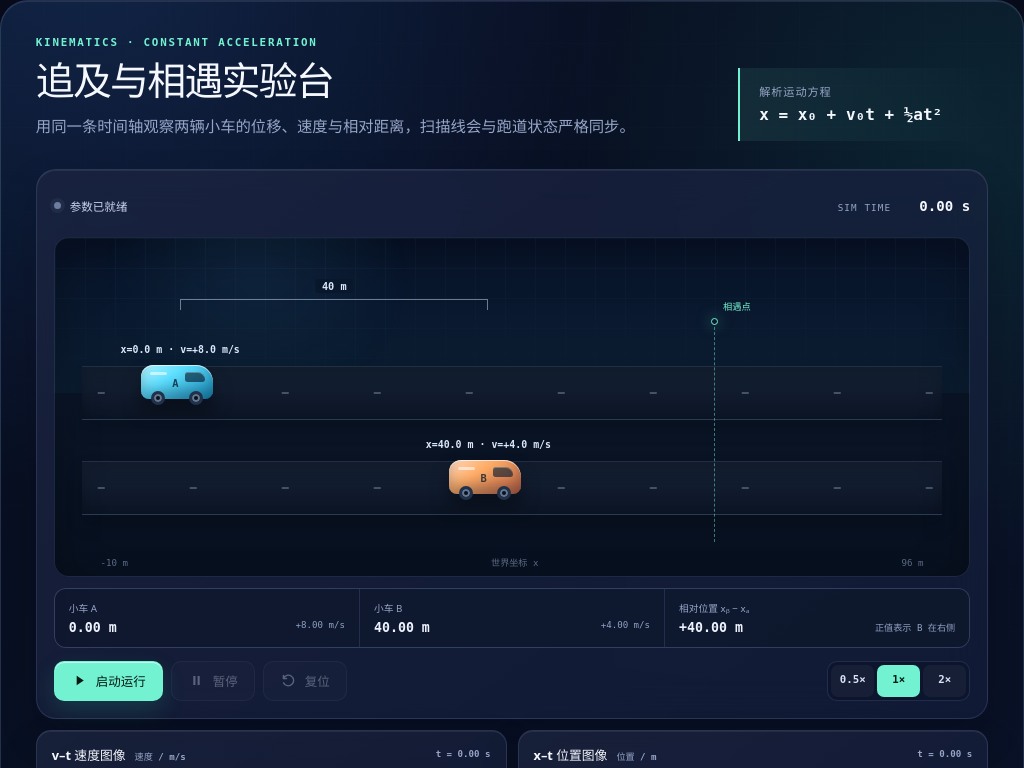
Test: PursuitLab › locks physical parameters while running but keeps playback speed available
The image size is (1024, 768).
Click the button "启动运行": (108, 681) [54,661,163,701]
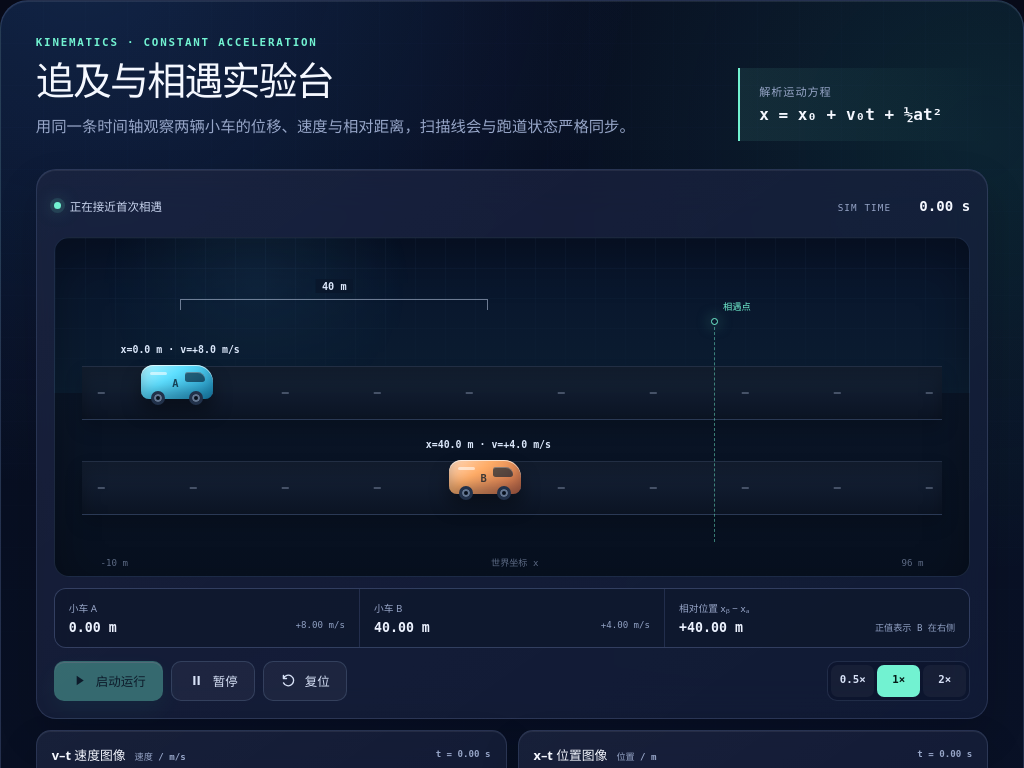
expect the button "2×" is enabled: met, box [923,665,966,697]
expect the button "暂停" is enabled: met, box [171,661,255,701]
